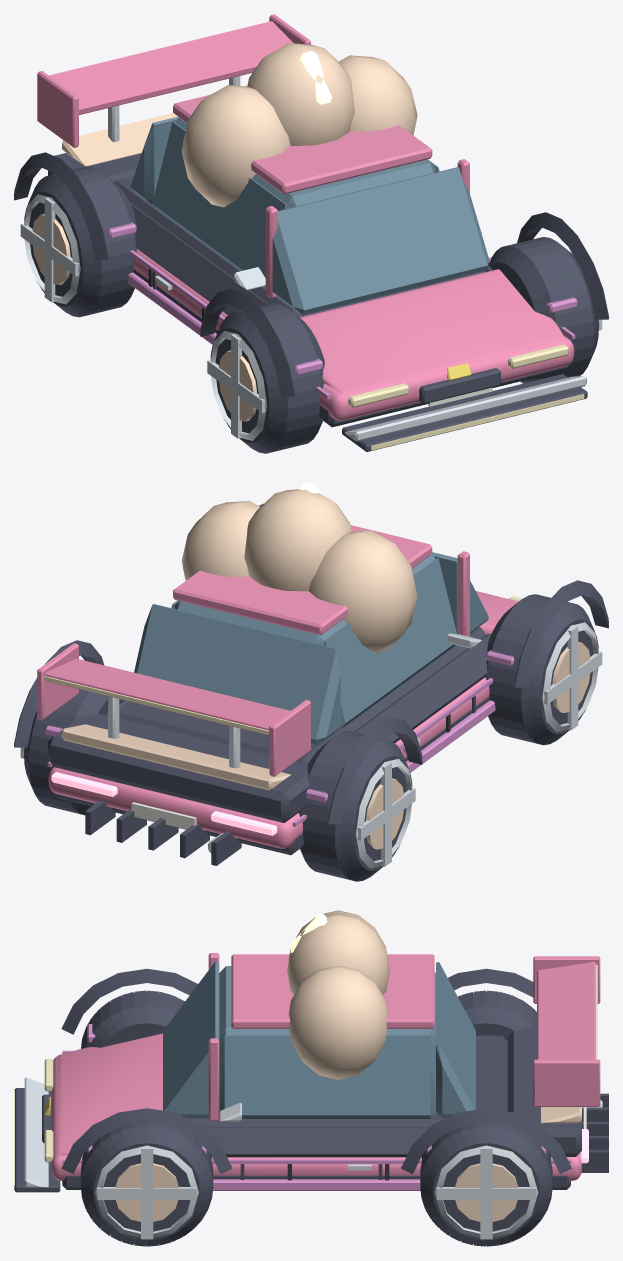
Rendered from mushroom_mobile.fbx.
The picture shows the model from 3 angles, top to bottom: view 1: azimuth 30°, elevation 25°; view 2: azimuth 150°, elevation 25°; view 3: azimuth 270°, elevation 25°; orthographic projection. The views are drawn at different scales.
Visible parts, largest first — view 1: Body, Glass, Accent2, Trim, Wheel_FR, Wheel_RR, Wheel_FL, Metal, Accent3, Accent, Light, Metal2 (+1 smaller); view 2: Trim, Glass, Accent2, Body, Wheel_FR, Wheel_RR, Metal, Wheel_RL, Accent, Metal2, Light2, Light (+1 smaller); view 3: Body, Trim, Glass, Accent2, Metal, Wheel_FL, Wheel_RL, Wheel_FR, Accent, Metal2, Wheel_RR, Accent3 (+1 smaller).
Part boxes in pixels (x1,y1,x2,y2): Body: [37, 14, 574, 420]; Glass: [130, 116, 488, 315]; Accent2: [62, 43, 417, 207]; Trim: [14, 152, 608, 451]; Wheel_FR: [210, 302, 324, 453]; Wheel_RR: [24, 166, 136, 317]; Wheel_FL: [488, 237, 598, 383]; Metal: [20, 76, 602, 440]; Accent3: [234, 229, 586, 441]; Accent: [108, 222, 577, 398]; Light: [348, 344, 584, 450]; Metal2: [32, 214, 256, 421]; Trim: [14, 503, 608, 865]; Glass: [134, 552, 488, 744]; Accent2: [62, 489, 417, 790]; Body: [37, 525, 518, 848]; Wheel_FR: [485, 594, 598, 745]; Wheel_RR: [299, 730, 412, 881]; Metal: [20, 622, 602, 868]; Wheel_RL: [24, 689, 124, 815]; Accent: [45, 650, 514, 826]; Metal2: [366, 642, 590, 849]; Light2: [51, 772, 277, 835]; Light: [44, 596, 522, 734]; Body: [51, 953, 600, 1180]; Trim: [14, 968, 608, 1192]; Glass: [163, 961, 475, 1118]; Accent2: [287, 910, 581, 1123]; Metal: [95, 1099, 602, 1239]; Wheel_FL: [80, 1122, 213, 1246]; Wheel_RL: [420, 1122, 552, 1246]; Wheel_FR: [81, 990, 184, 1048]; Accent: [62, 1024, 571, 1190]; Metal2: [115, 1163, 517, 1221]; Wheel_RR: [458, 990, 536, 1041]; Accent3: [24, 1077, 241, 1187].
Bounding box in the file's own units: 3.11 × 2.52 × 5.17.
